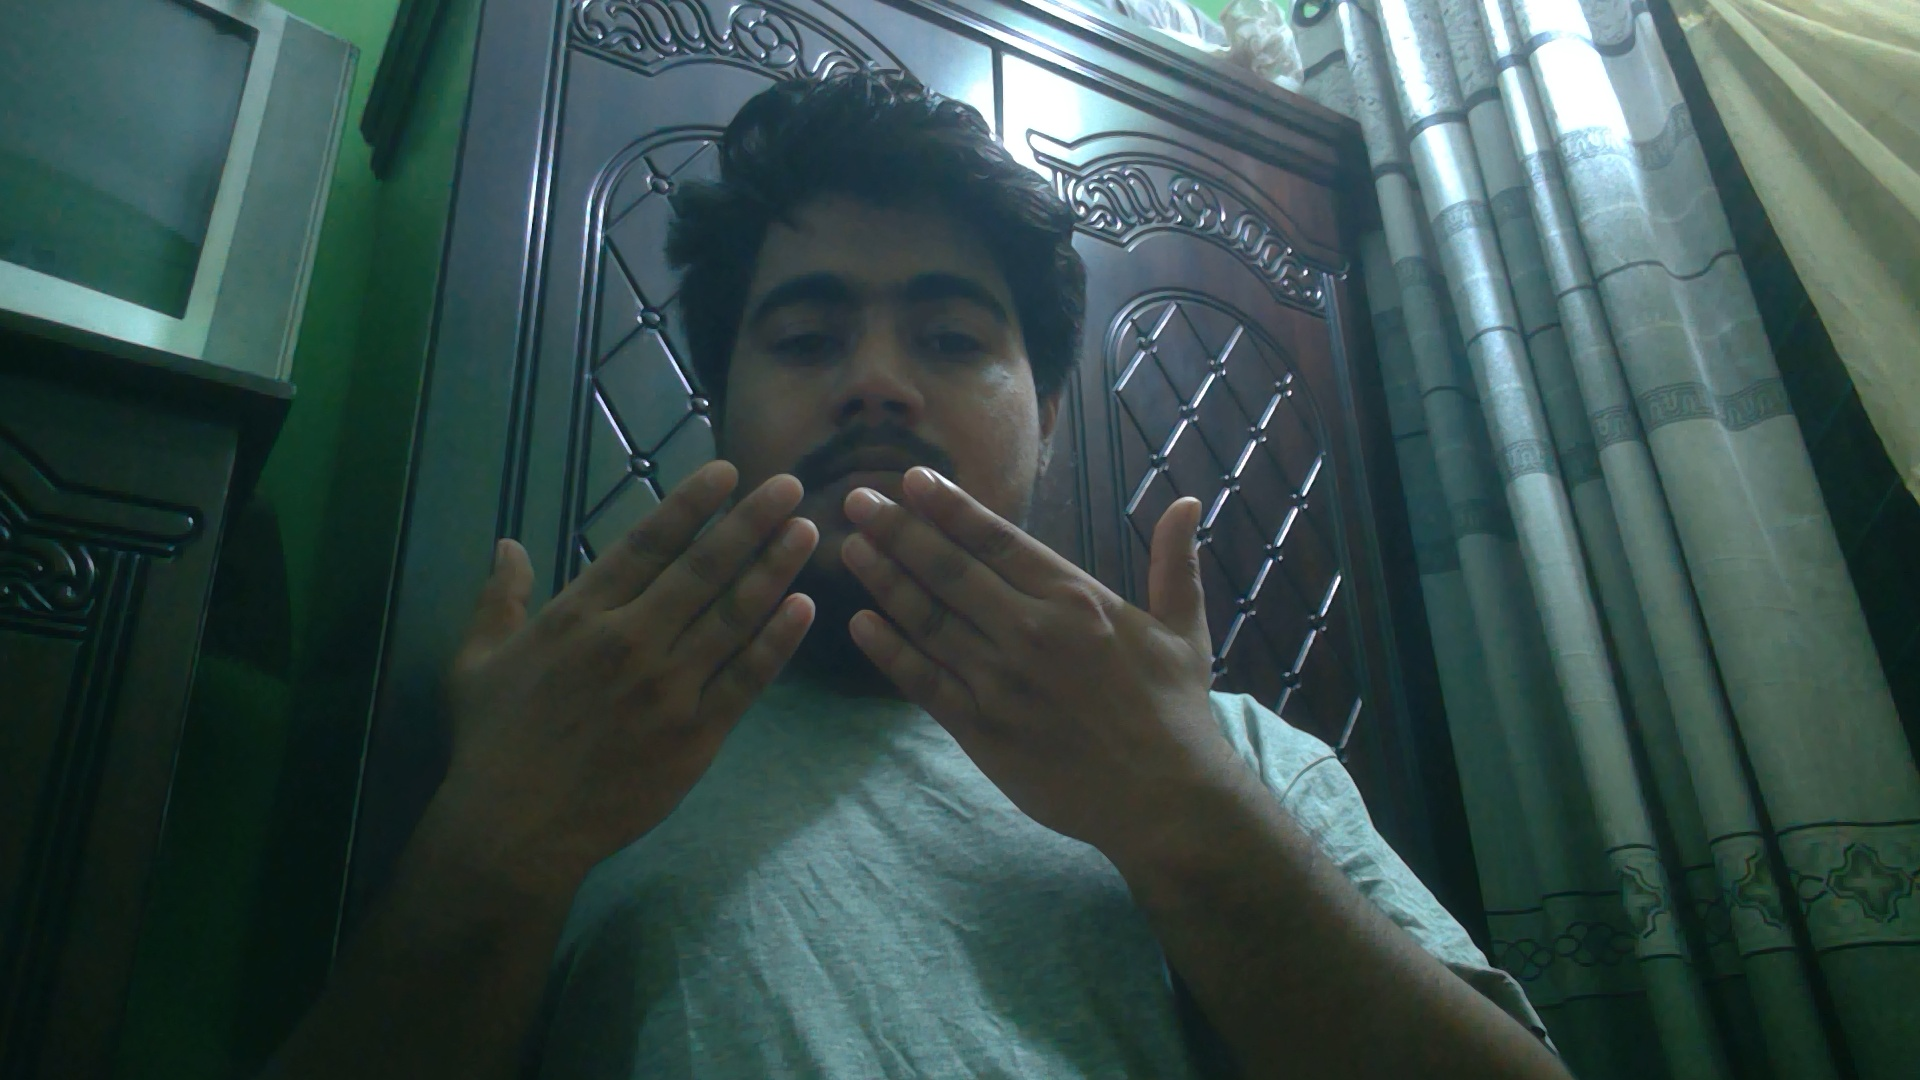thanks: (436, 440, 1229, 832)
